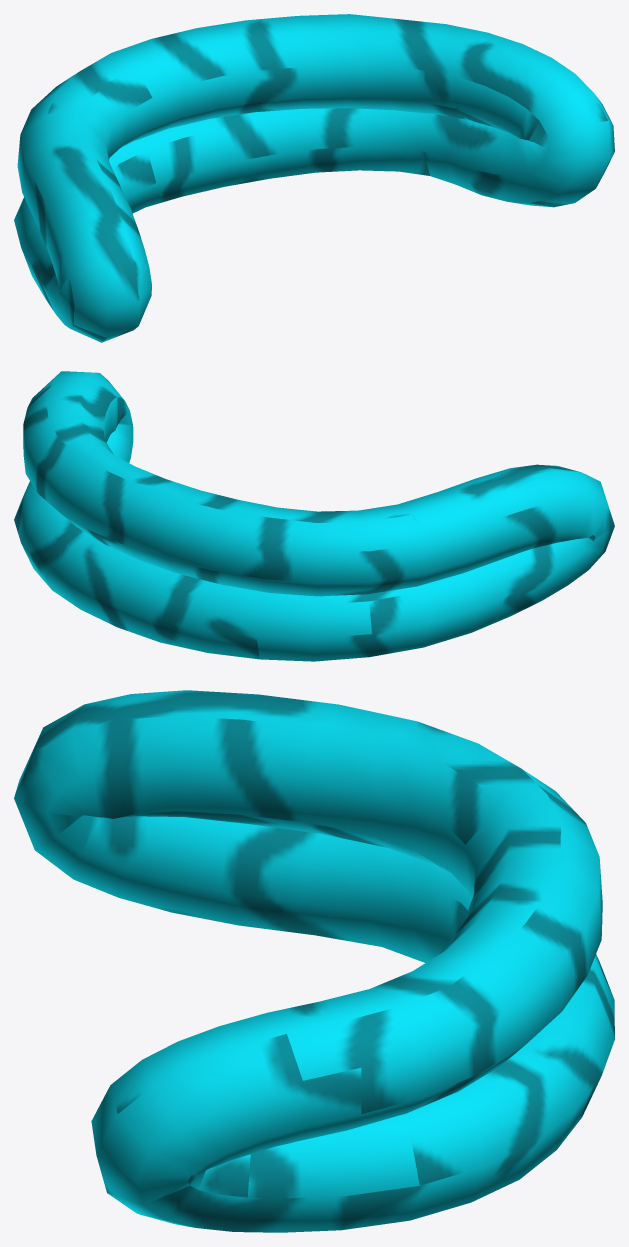
File: item-fish-lips.glb
3 renders of one model, top to bottom at view 1: azimuth 30°, elevation 25°; view 2: azimuth 150°, elevation 25°; view 3: azimuth 270°, elevation 25°, orthographic. The views are drawn at different scales.
Bounding box in the file's own units: 0.2111 × 0.056 × 0.1311.
Materials: 1 (1 with a texture image).
